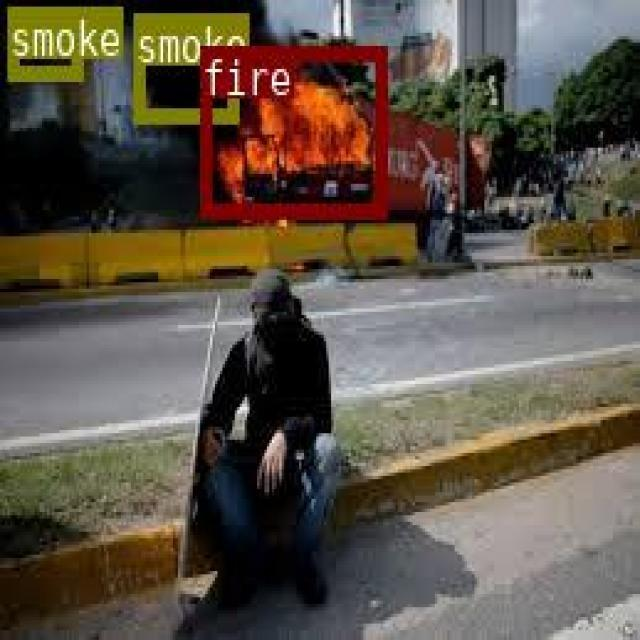fire: (199, 43, 383, 216)
smoke: (131, 11, 236, 121), (6, 4, 80, 78)
